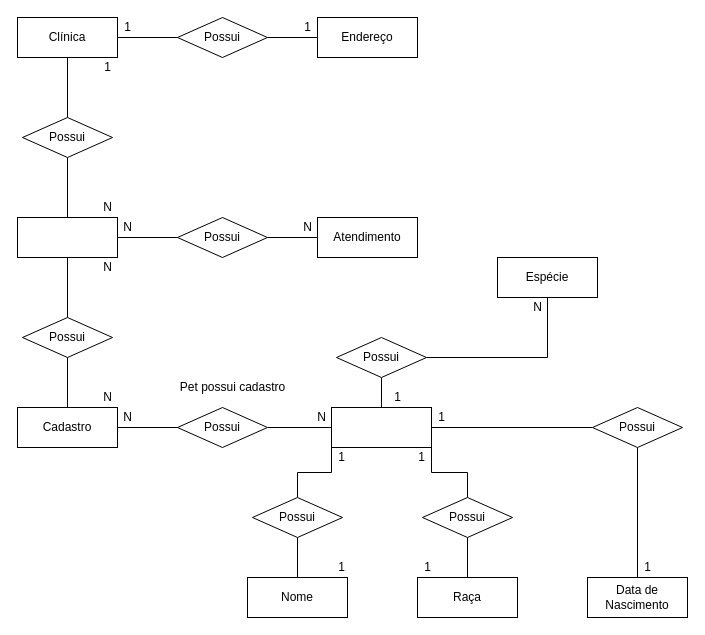
This 705x635 diagram has some shape labels left out. The box of each missing label's shape, as (x1, y1, x2, y2) in pixels:
Pet: (330, 406, 432, 448)
Veterinário: (16, 216, 118, 258)
